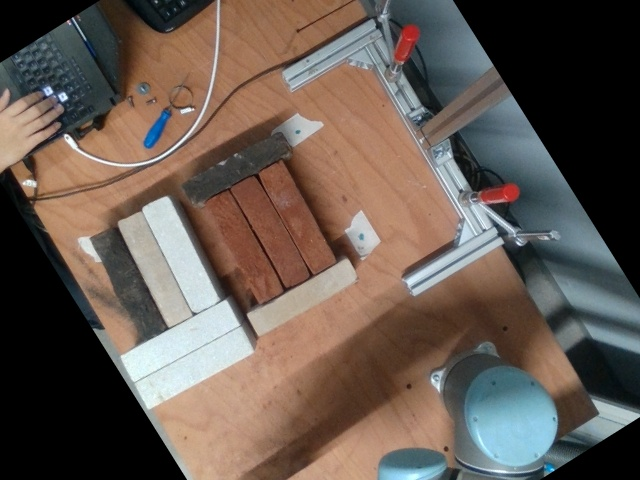brick-side: (204, 189, 284, 305), (256, 158, 336, 274), (245, 256, 359, 337), (136, 328, 252, 407), (121, 301, 237, 380), (230, 173, 309, 289), (141, 196, 217, 313), (117, 211, 193, 328), (89, 226, 165, 343), (180, 129, 292, 207)
